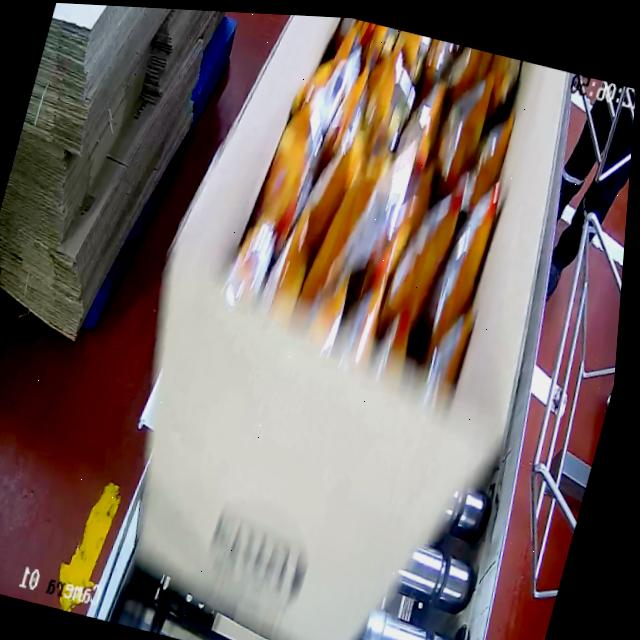FRENCH_CHEESE: (230, 13, 545, 390)
